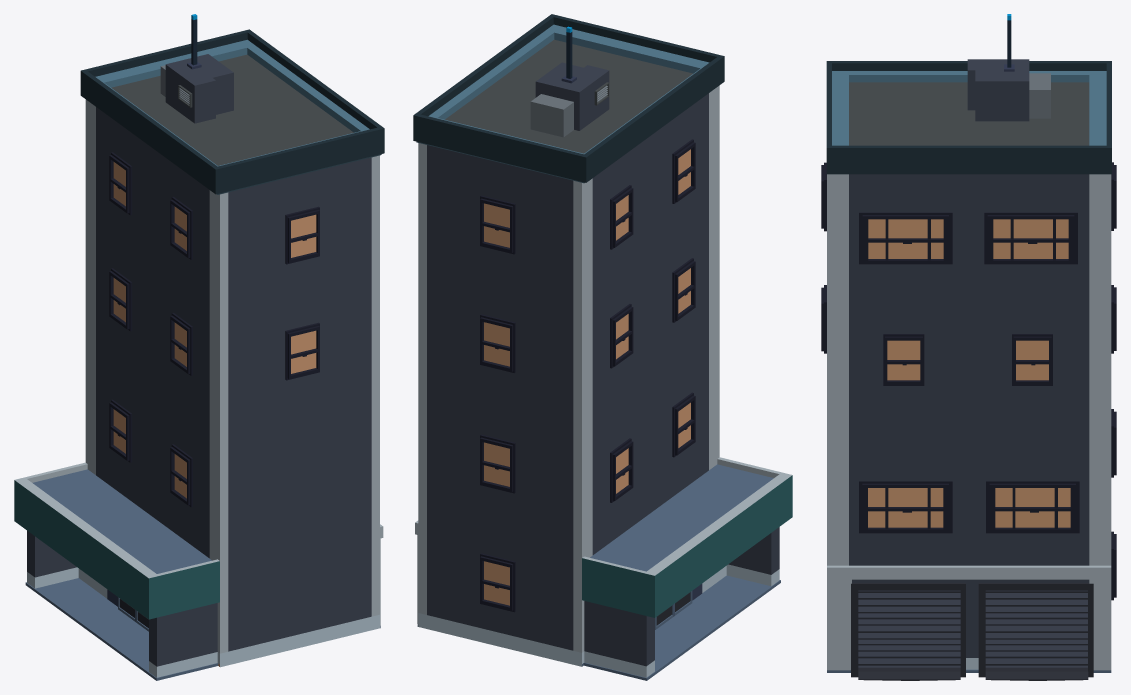
File: Building_Tall02.fbx
The picture shows the model from 3 angles, left to right: view 1: azimuth 30°, elevation 25°; view 2: azimuth 150°, elevation 25°; view 3: azimuth 270°, elevation 25°; orthographic projection. The views are drawn at different scales.
Visible parts, largest first — view 1: Cube.407; view 2: Cube.407; view 3: Cube.407.
Boxes of the visible parts, x1,y1,x2,y2 form: Cube.407: (14, 14, 384, 680); Cube.407: (413, 14, 792, 680); Cube.407: (821, 14, 1116, 680).
Size of the model in its own units: 700 by 1622 by 710.
